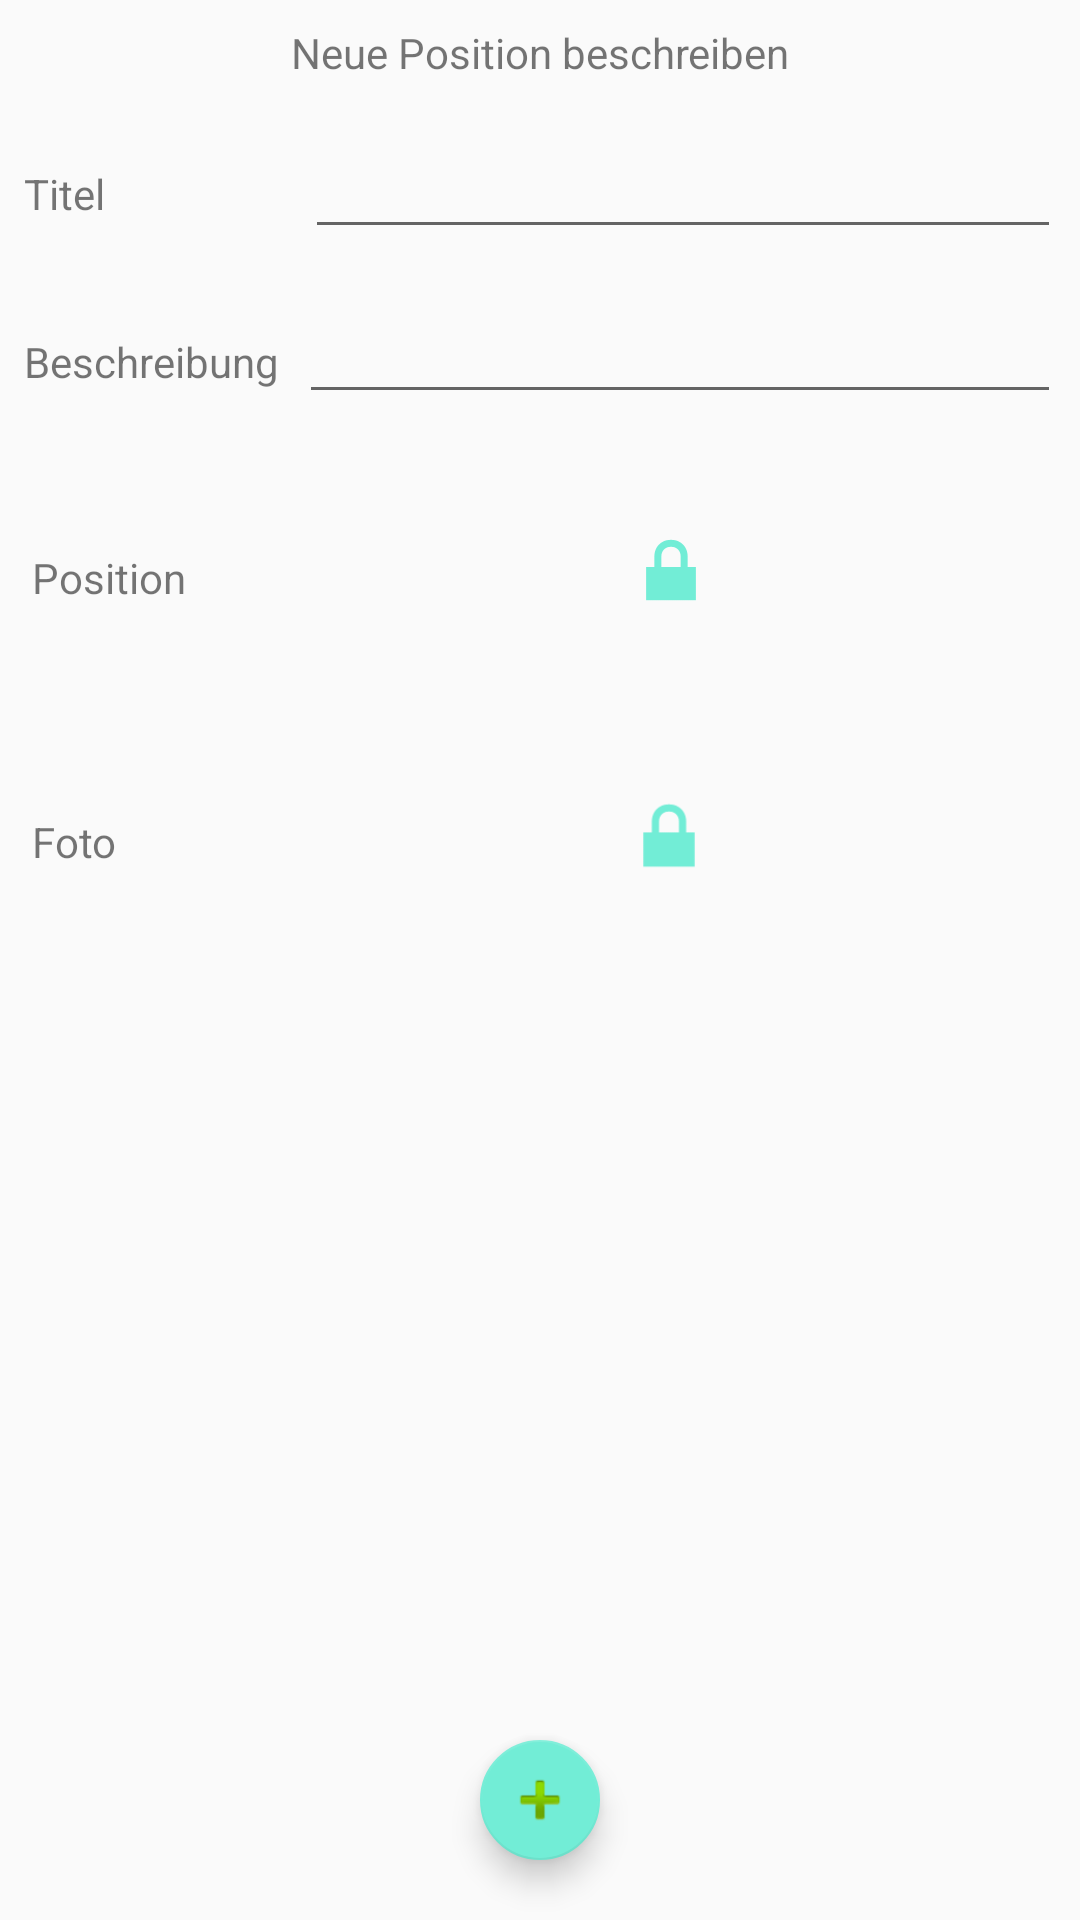

Locate icon controls on the screen. Image size 1080px×1920px, boxes as (x1, y1, x2, y2).
add: (480, 1740, 600, 1860)
lock: (646, 539, 696, 601), (643, 804, 695, 867)
